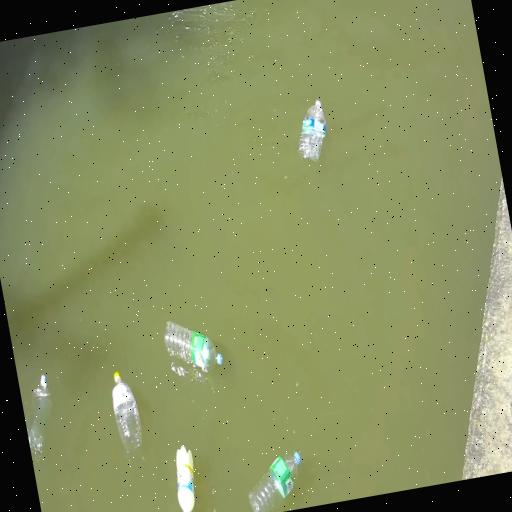plastic: (249, 452, 301, 511), (165, 321, 222, 371), (113, 372, 142, 453), (27, 375, 51, 459), (299, 100, 326, 162), (176, 446, 195, 511)
